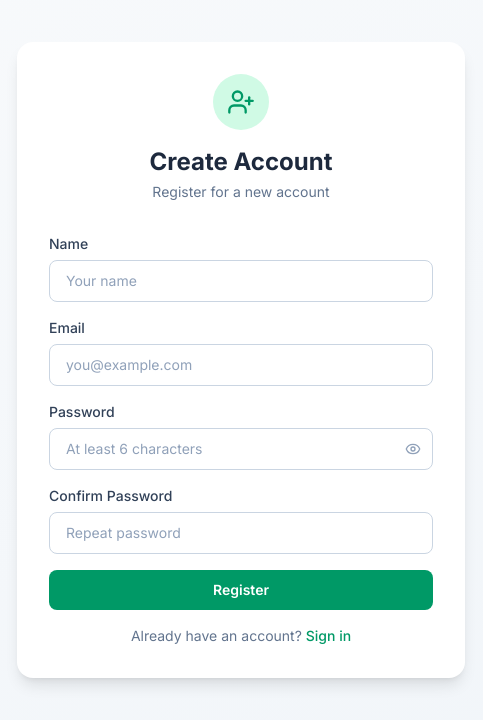
Test: RegisterPage › shows error when passwords do not match
Type "Test User" into the field labelled "Name" at point(241, 281), box [49,260,433,302]
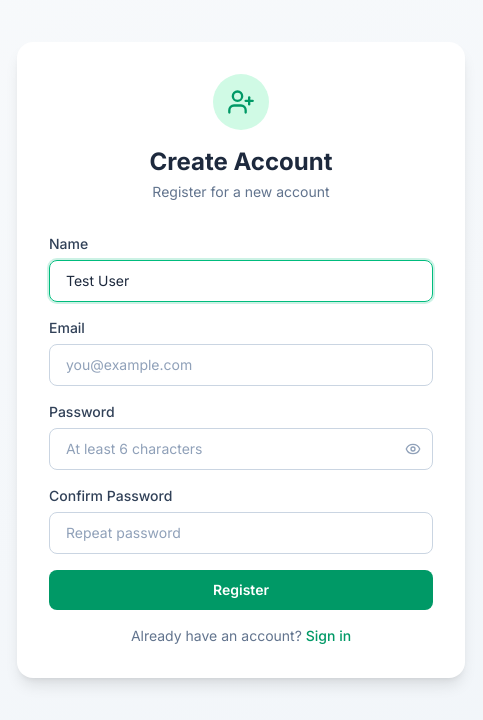
Type "test@test.com" into the field labelled "Email" at point(241, 365), box [49,344,433,386]
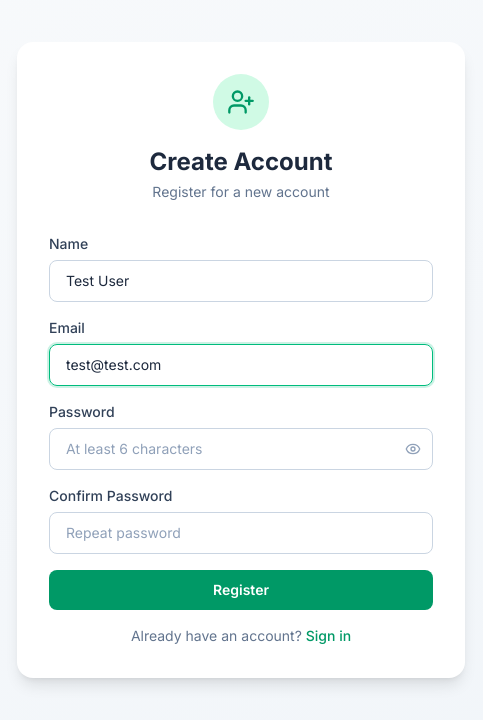
Type "password123" into the password field labelled "Password" at point(241, 449), box [49,428,433,470]
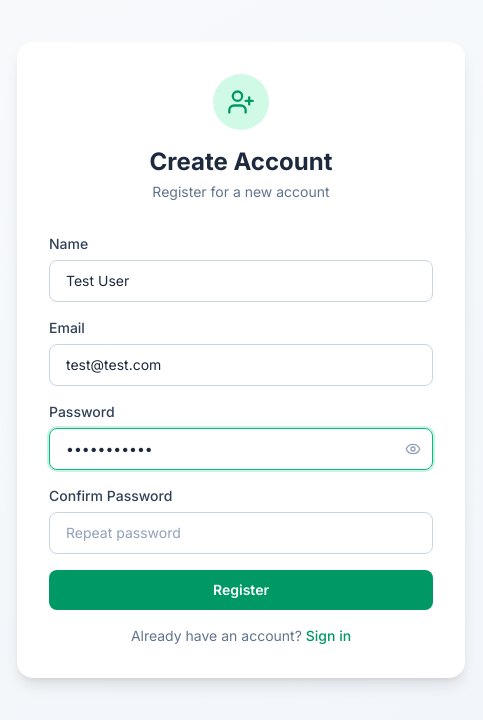
Type "different" into the password field labelled "Confirm Password" at point(241, 533), box [49,512,433,554]
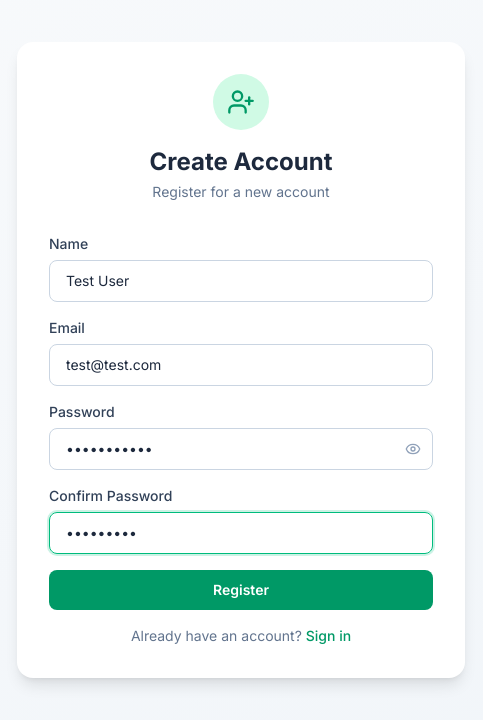
Click the button "Register" at point(241, 590), box [49,570,433,610]
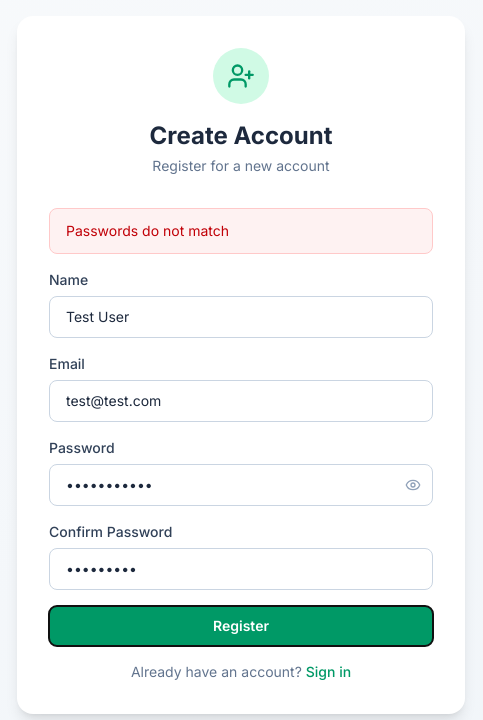
Expected: the text "Passwords do not match" is shown, [49,208,433,254]
